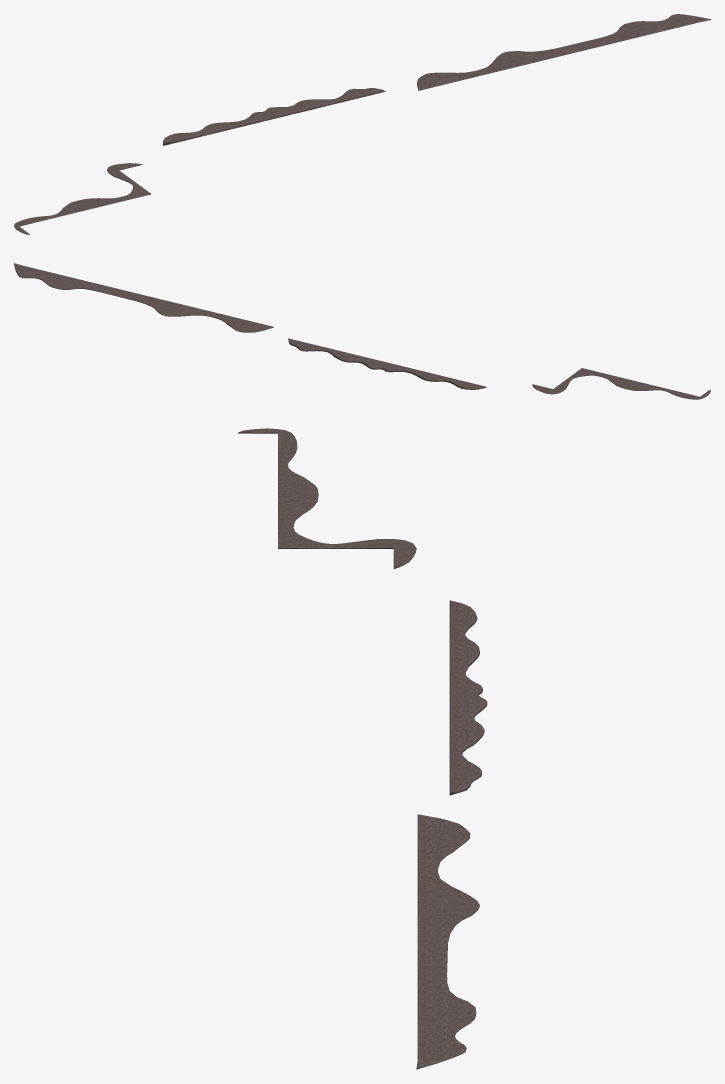
The model's file is envMulch.fbx.
The picture shows the model from 3 angles, top to bottom: view 1: azimuth 30°, elevation 25°; view 2: azimuth 150°, elevation 25°; view 3: azimuth 270°, elevation 25°; orthographic projection. The views are drawn at different scales.
Parts seen in each view (by area): view 1: envMulch; view 2: envMulch; view 3: envMulch.
Part boxes in pixels (<box>): envMulch: <box>14,14,710,234</box>; envMulch: <box>14,263,710,399</box>; envMulch: <box>237,428,487,1069</box>.
Bounding box in the file's own units: 11358 × 29.67 × 1871.
1 material, 1 textured.
